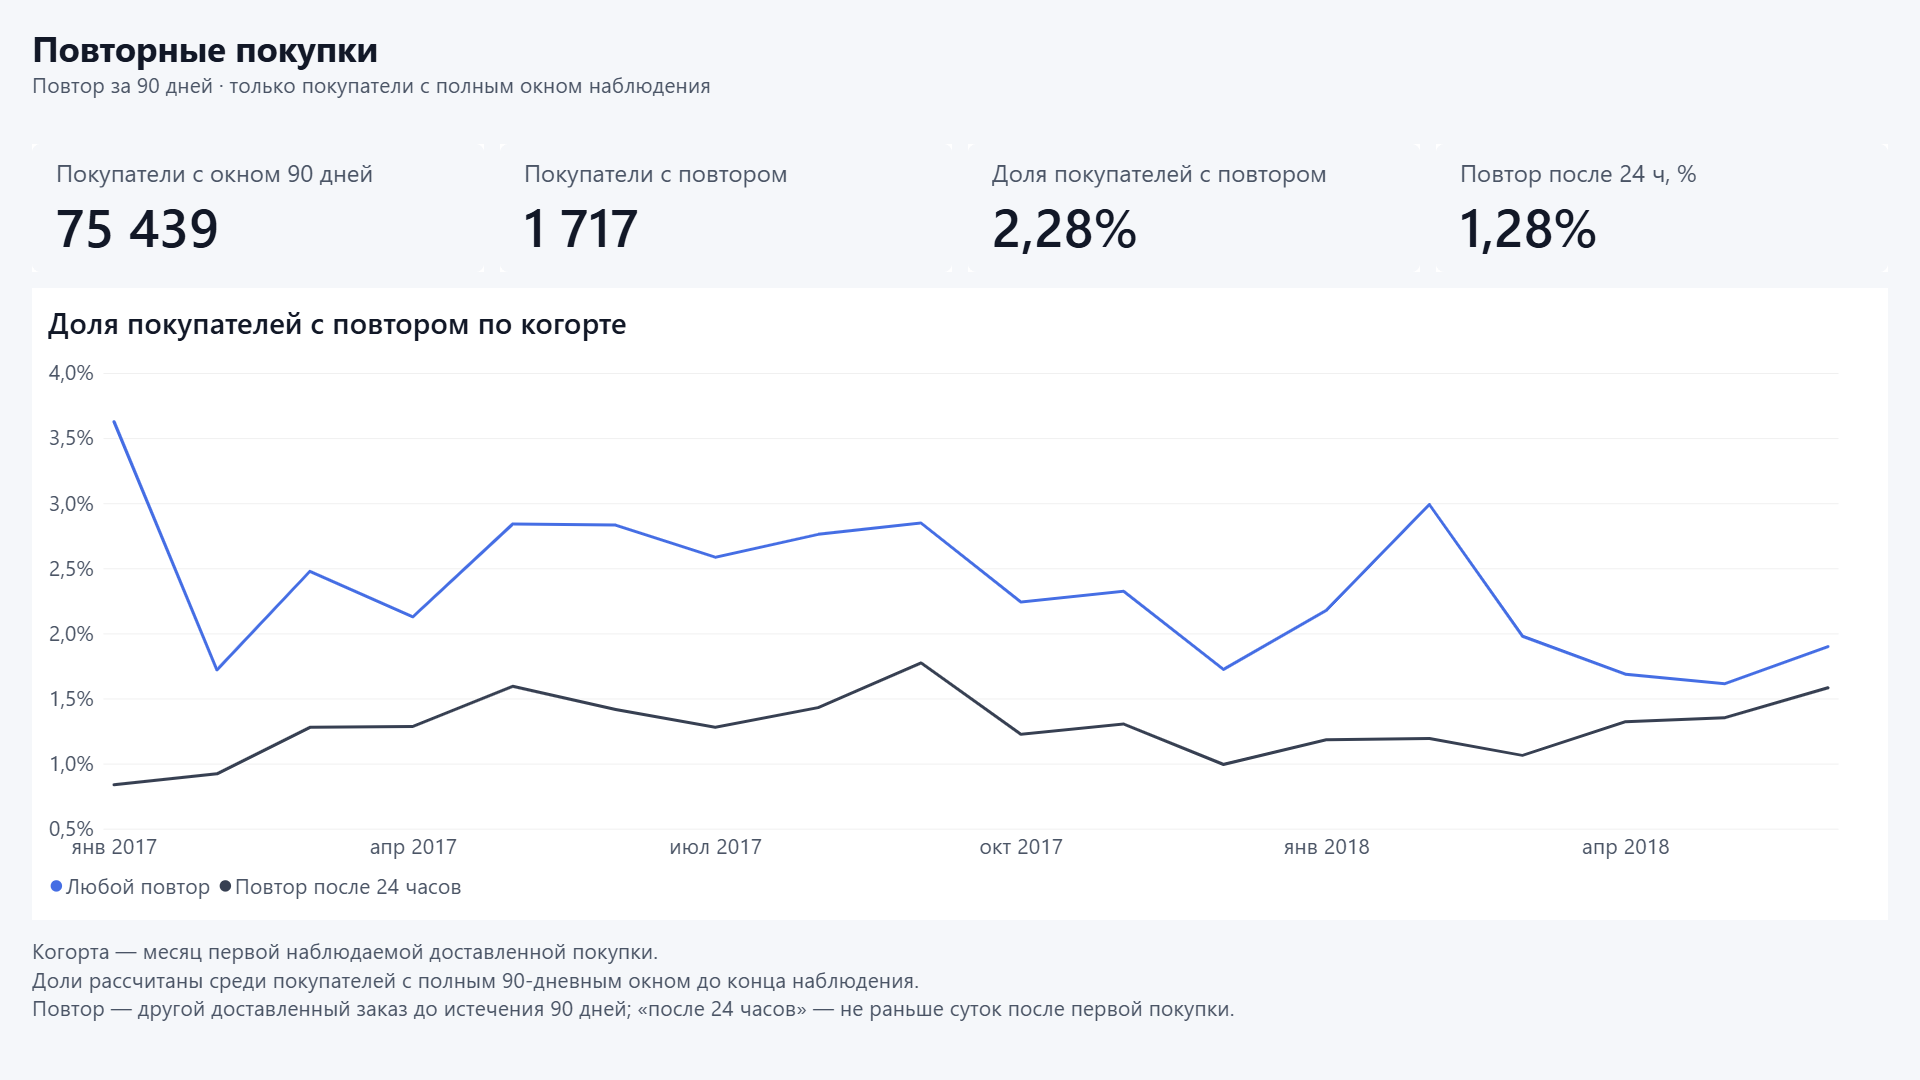

Layout of this report page (visuals, bound fields, positions):
{"tool":"powerbi","page":{"name":"Повторные покупки","canvas":[1920,1080],"ordinal":1},"visuals":[{"type":"textbox","box":[32,24,1856,104],"z":0},{"type":"cardVisual","fields":{"Data":["a_repeat90.Покупатели с окном 90 дней"]},"box":[32,144,452,128],"z":1},{"type":"cardVisual","fields":{"Data":["a_repeat90.Повторные покупатели"]},"box":[500,144,452,128],"z":2},{"type":"cardVisual","fields":{"Data":["a_repeat90.Доля повторных покупок"]},"box":[968,144,452,128],"z":3},{"type":"cardVisual","fields":{"Data":["a_repeat90.Доля повторных покупок после суток"]},"box":[1436,144,452,128],"z":4},{"type":"lineChart","title":"Доля покупателей с повтором по когорте","fields":{"Category":["a_repeat90.cohort_month"],"Y":["a_repeat90.Доля повторных покупок","a_repeat90.Доля повторных покупок после суток"]},"box":[32,288,1856,632],"z":5},{"type":"textbox","box":[32,936,1856,112],"z":6}]}

Visuals, with their boxes in screenshot pixels (x1, y1, x2, y2), scaled from the page's 1920x1080 canvas onto the 1920x1080 screenshot:
textbox: left=32, top=24, right=1888, bottom=128
cardVisual - a_repeat90.Покупатели с окном 90 дней: left=32, top=144, right=484, bottom=272
cardVisual - a_repeat90.Повторные покупатели: left=500, top=144, right=952, bottom=272
cardVisual - a_repeat90.Доля повторных покупок: left=968, top=144, right=1420, bottom=272
cardVisual - a_repeat90.Доля повторных покупок после суток: left=1436, top=144, right=1888, bottom=272
"Доля покупателей с повтором по когорте" lineChart: left=32, top=288, right=1888, bottom=920
textbox: left=32, top=936, right=1888, bottom=1048
